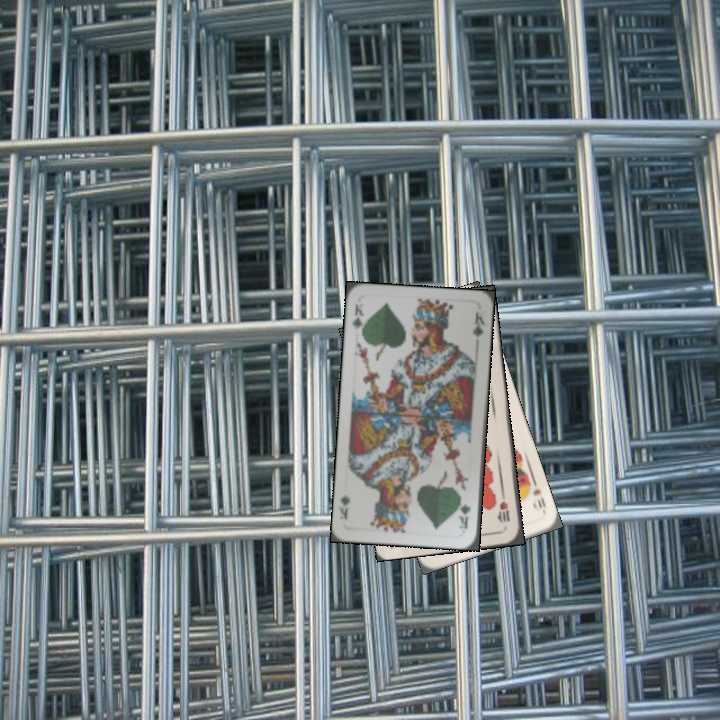GK: (348, 300, 367, 338), (456, 500, 473, 532)
H10: (495, 489, 512, 525)
S10: (529, 476, 548, 510)
